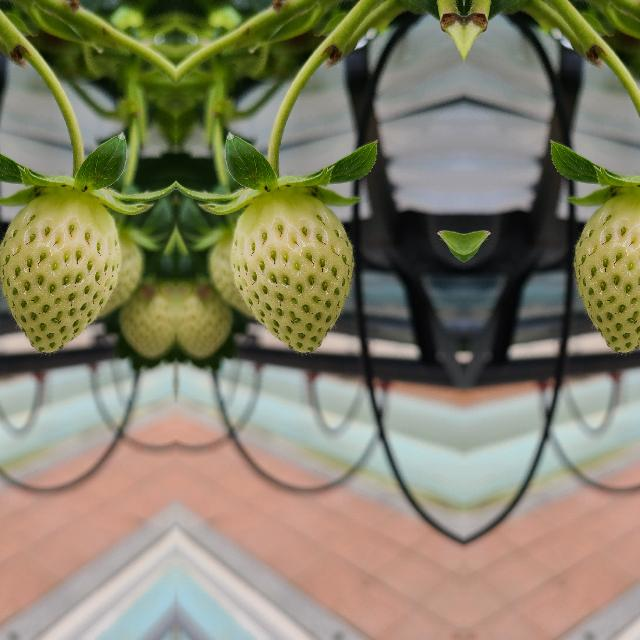Health_25: (230, 194, 352, 352), (0, 194, 120, 352), (574, 194, 640, 352)
